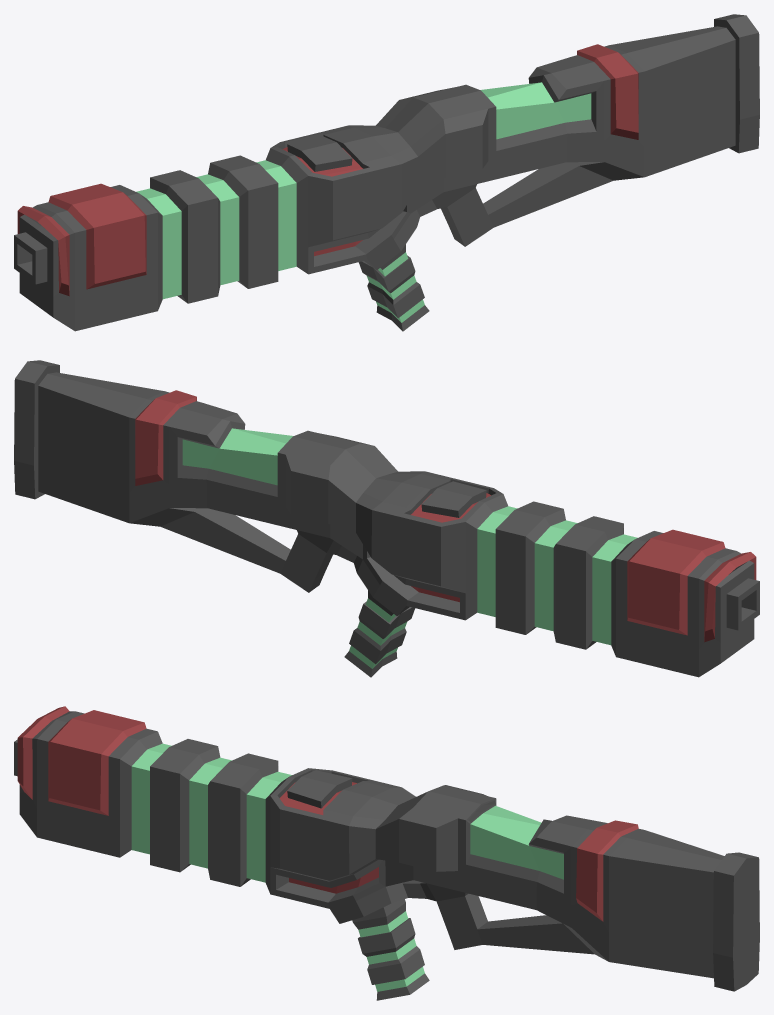
The model's file is energyDamager.fbx.
3 views of the same model, one above another, from view 1: azimuth 30°, elevation 25°; view 2: azimuth 150°, elevation 25°; view 3: azimuth 330°, elevation 25° (orthographic).
Visible parts, largest first — view 1: Cube; view 2: Cube; view 3: Cube.
Boxes of the visible parts, bbox=[...] form: Cube: bbox=[14, 14, 759, 331]; Cube: bbox=[14, 360, 759, 677]; Cube: bbox=[14, 706, 759, 1000].
Size of the model in its own units: 751 by 219 by 95.57.
